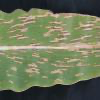Corn leaf blight: (0, 7, 99, 86)
